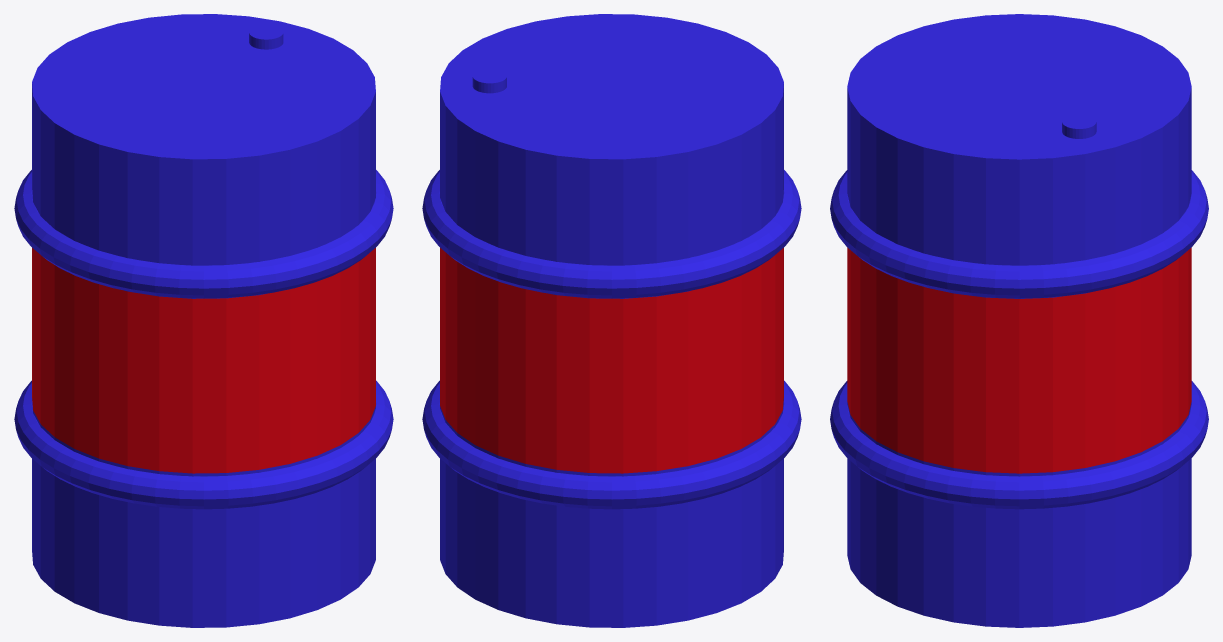
The model's file is ExplosiveBarrel.fbx.
3 renders of one model, left to right at view 1: azimuth 30°, elevation 25°; view 2: azimuth 150°, elevation 25°; view 3: azimuth 270°, elevation 25°, orthographic.
Parts seen in each view (by area): view 1: Cylinder.001; view 2: Cylinder.001; view 3: Cylinder.001.
Boxes of the visible parts, x1,y1,x2,y2 form: Cylinder.001: (14, 14, 393, 627); Cylinder.001: (422, 14, 801, 627); Cylinder.001: (830, 14, 1208, 627).
Bounding box in the file's own units: 220 × 306 × 220.
